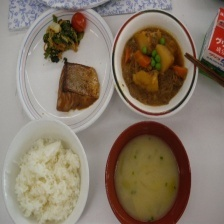rice: (10, 135, 85, 223)
